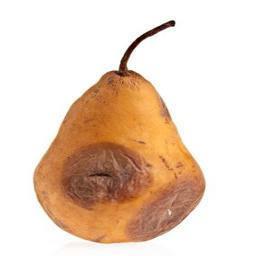Pear Rotten: (25, 25, 219, 244)
